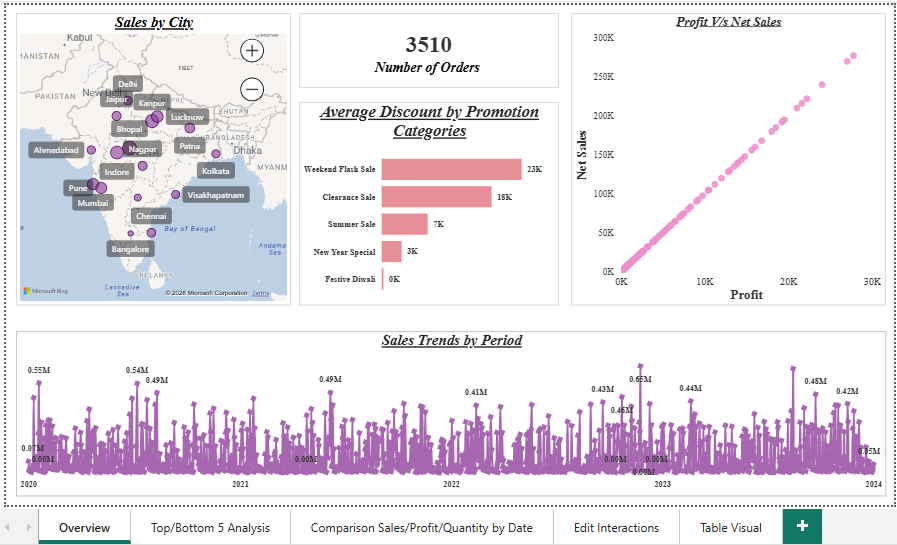

This screenshot's page, from the dashboard's own definition file:
{"tool":"powerbi","page":{"name":"Overview","canvas":[1280,720],"ordinal":0},"visuals":[{"type":"lineChart","title":"Sales Trends by Period","fields":{"Y":["Sum(Fact Table.Net Sales)"],"Category":["Fact Table.Date (dd/mm/yyyy).Variation.Date Hierarchy.Year"]},"box":[14.4,469.4,1252.8,237.6],"z":0},{"type":"scatterChart","title":"Profit V/s Net Sales","fields":{"X":["Fact Table.Profit"],"Y":["Fact Table.Net Sales"]},"box":[814.3,11.4,452.9,421.4],"z":1000},{"type":"barChart","title":"Average Discount by Promotion Categories","fields":{"Y":["Avg(Fact Table.Discount Value)"],"Category":["Dim Promotion.Promotion Name"]},"box":[421.4,140,374.3,292.9],"z":2000},{"type":"map","title":"Sales by City","fields":{"Category":["Dim Customers.City"],"Size":["Sum(Fact Table.Net Sales)"]},"box":[14.3,11.4,395.7,421.4],"z":3000},{"type":"card","fields":{"Values":["Count(Fact Table.Order ID)"]},"box":[421.9,11.5,374.4,108],"z":4000}]}

Visuals, with their boxes on the page's 1280x720 design canvas (x1, y1, x2, y2). These are canvas units, not pixel positions in the 897x545 screenshot, which may show the page scaled, cropped or inside an application window:
"Sales Trends by Period" lineChart: [left=14, top=469, right=1267, bottom=707]
"Profit V/s Net Sales" scatterChart: [left=814, top=11, right=1267, bottom=433]
"Average Discount by Promotion Categories" barChart: [left=421, top=140, right=796, bottom=433]
"Sales by City" map: [left=14, top=11, right=410, bottom=433]
card - Count(Fact Table.Order ID): [left=422, top=12, right=796, bottom=120]
